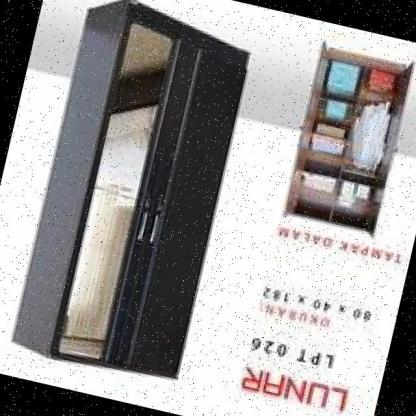Closet: (1, 0, 262, 388), (276, 36, 416, 242)
